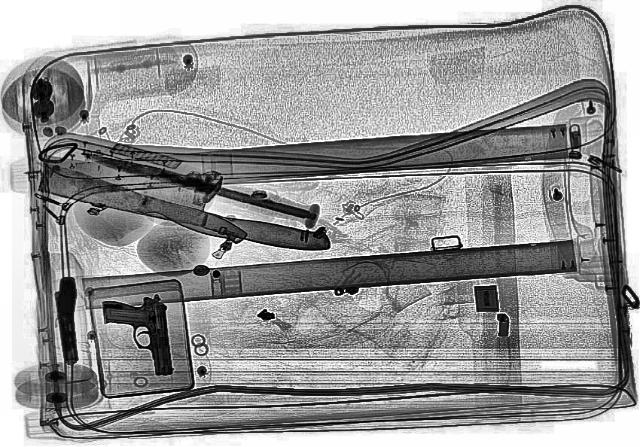Gun: (99, 292, 178, 378), (50, 276, 84, 364)
Knife: (24, 149, 343, 263), (26, 151, 254, 249), (76, 146, 314, 220)
